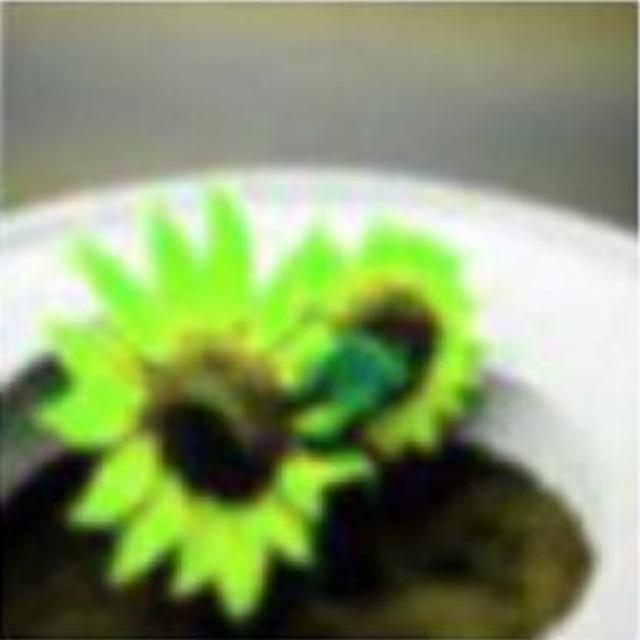sunflower: (22, 178, 345, 622), (305, 221, 496, 458)
